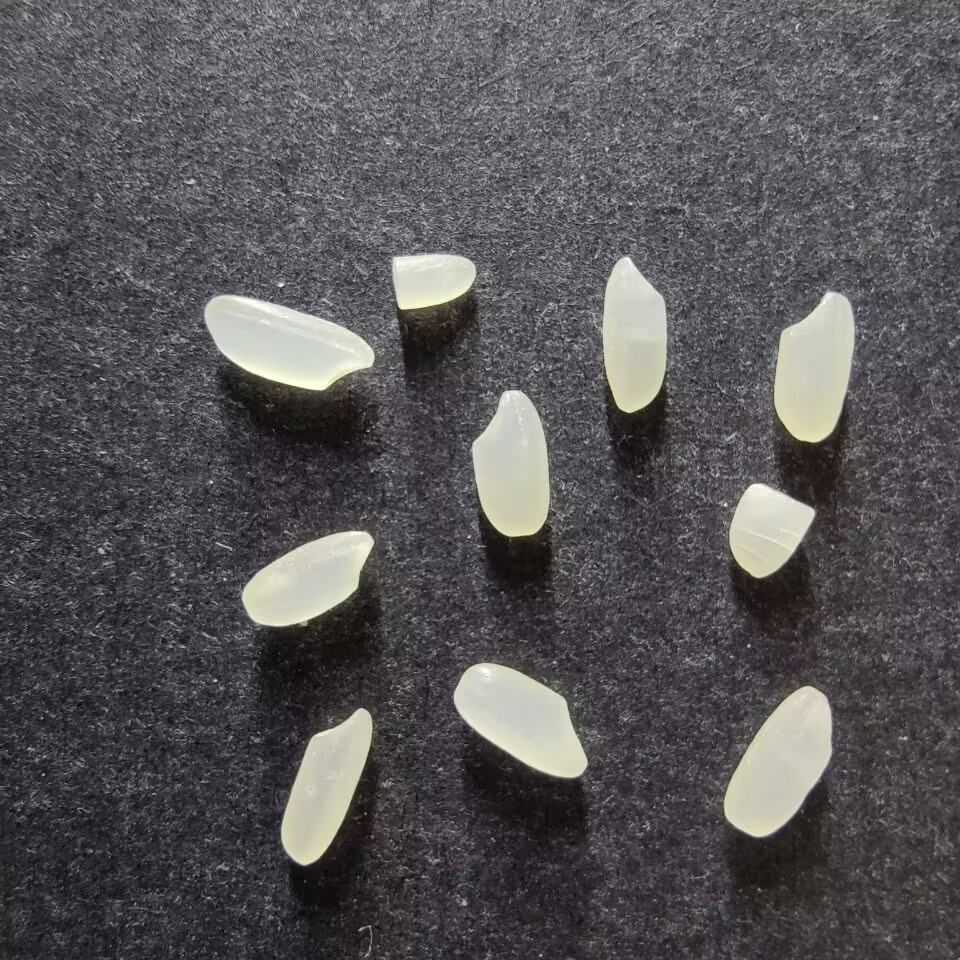broken: (728, 483, 814, 579), (391, 254, 477, 310)
rice: (722, 685, 834, 838), (203, 295, 375, 391), (452, 662, 588, 779), (279, 707, 372, 866), (240, 530, 373, 626), (771, 291, 854, 442), (470, 390, 551, 537), (600, 256, 668, 413)
